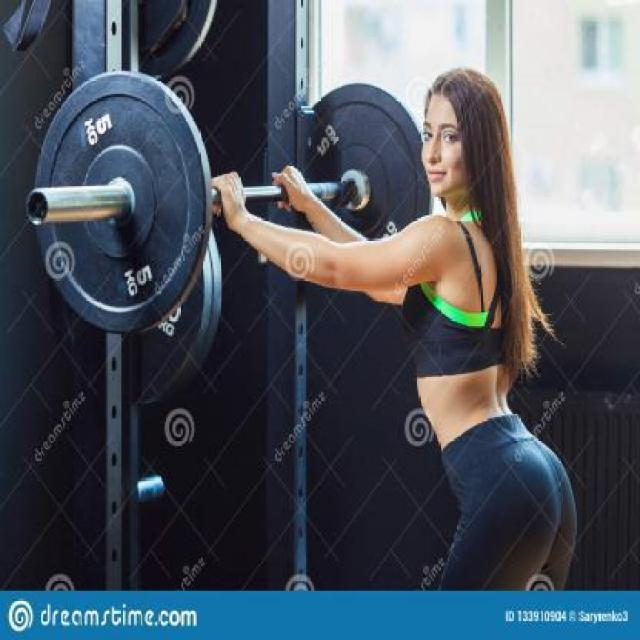Barbell: (22, 178, 56, 231)
